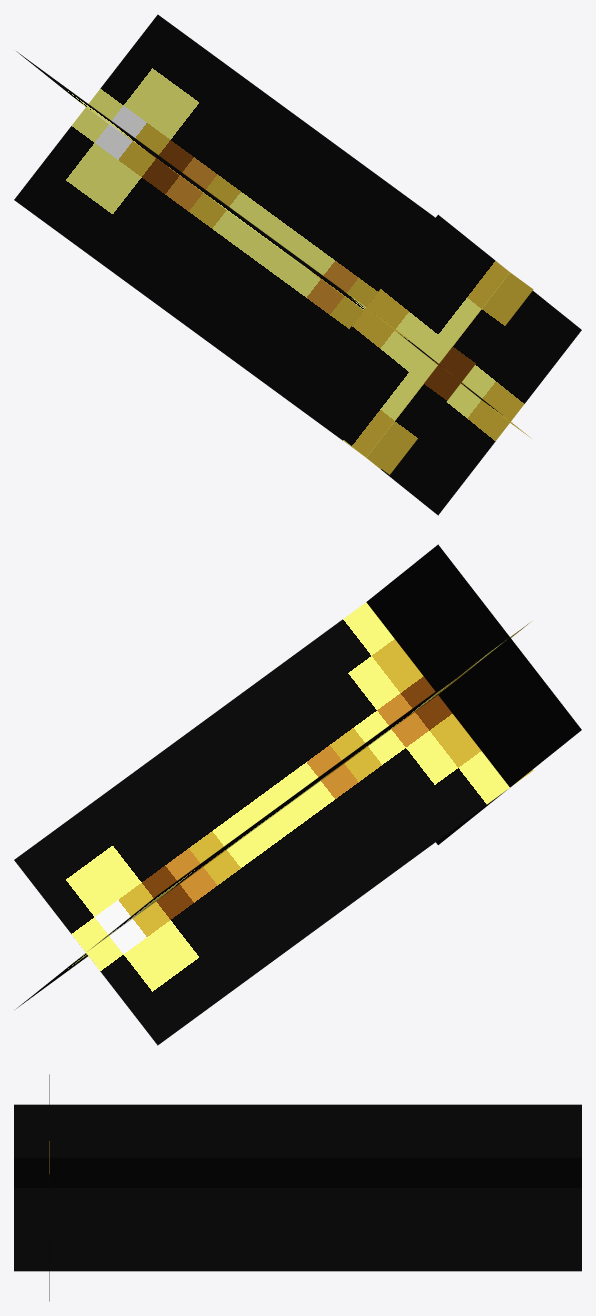
File: spectral_arrow_21.1.gltf
3 renders of one model, top to bottom at view 1: azimuth 30°, elevation 25°; view 2: azimuth 150°, elevation 25°; view 3: azimuth 270°, elevation 25°, orthographic. The views are drawn at different scales.
Parts seen in each view (by area): view 1: body (×3); view 2: body (×3); view 3: body (×2).
Part boxes in pixels (<box>): body (×3): <box>14,14,581,515</box>; body (×3): <box>14,544,581,1045</box>; body (×2): <box>14,1104,581,1271</box>.
Size of the model in its own units: 0.4419 by 0.4419 by 1.
1 material, 1 textured.
